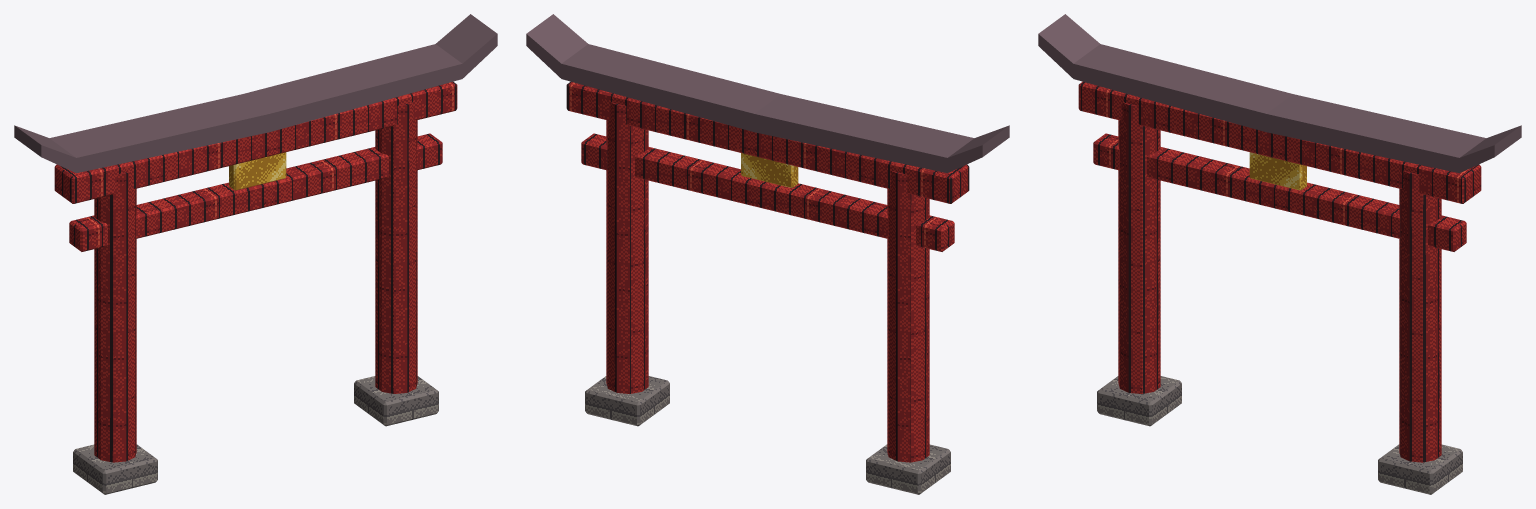
The model's file is johto_torii.glb.
3 renders of one model, left to right at view 1: azimuth 30°, elevation 25°; view 2: azimuth 150°, elevation 25°; view 3: azimuth 330°, elevation 25°, orthographic.
Visible parts, largest first — view 1: Torii; view 2: Torii; view 3: Torii.
Part boxes in pixels (x1=…): Torii: x1=14, y1=14, x2=497, y2=494; Torii: x1=526, y1=14, x2=1009, y2=494; Torii: x1=1038, y1=14, x2=1521, y2=494.
Size of the model in its own units: 7.8 by 5.95 by 0.95.
Materials: 4 (3 with a texture image).
